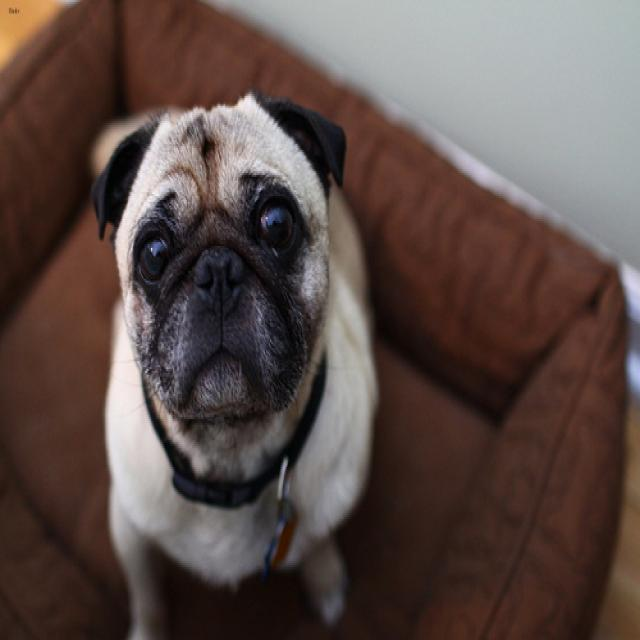dog-pug: (83, 81, 388, 636)
